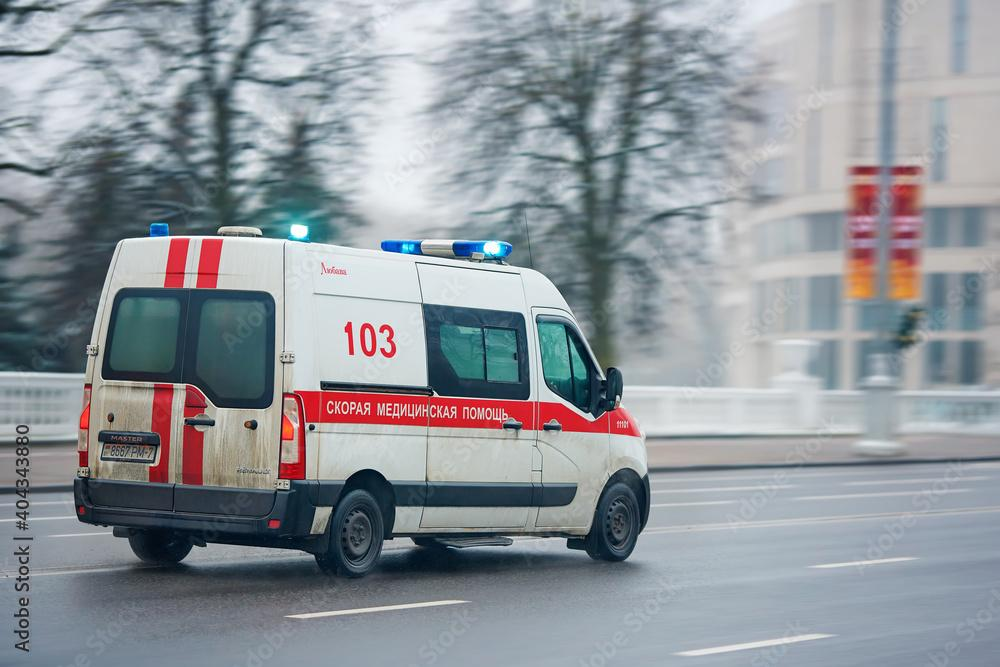ambulance_on: (71, 217, 655, 576)
